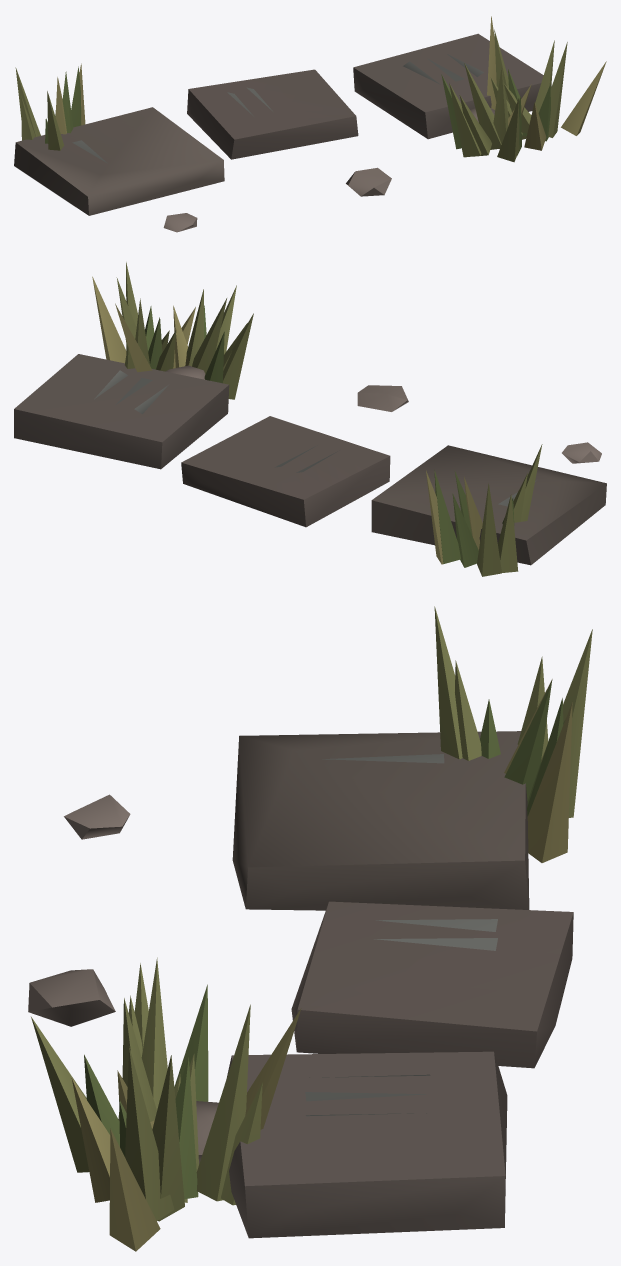
The model's file is stair_stones_c_lod2.glb.
The picture shows the model from 3 angles, top to bottom: view 1: azimuth 30°, elevation 25°; view 2: azimuth 150°, elevation 25°; view 3: azimuth 270°, elevation 25°; orthographic projection. The views are drawn at different scales.
Parts seen in each view (by area): view 1: Surface.001; view 2: Surface.001; view 3: Surface.001.
Boxes of the visible parts, x1,y1,x2,y2 form: Surface.001: (14, 16, 606, 232); Surface.001: (14, 262, 606, 576); Surface.001: (28, 606, 592, 1251).
Bounding box in the file's own units: 2.54 × 0.4928 × 1.27.
